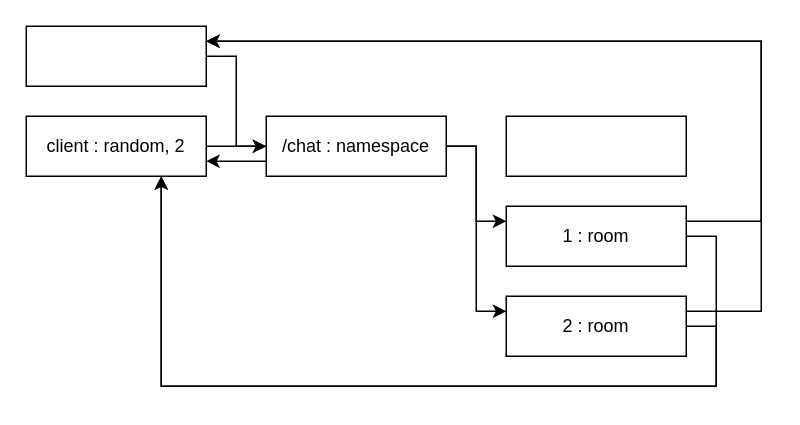
This 800x425 diagram has some shape labels left out. Here are the shapes that lost their labels. From the top down, the centre of each, then its label:
At point 115,55: "client : random, 1, 2".
At point 595,145: "random : room".
